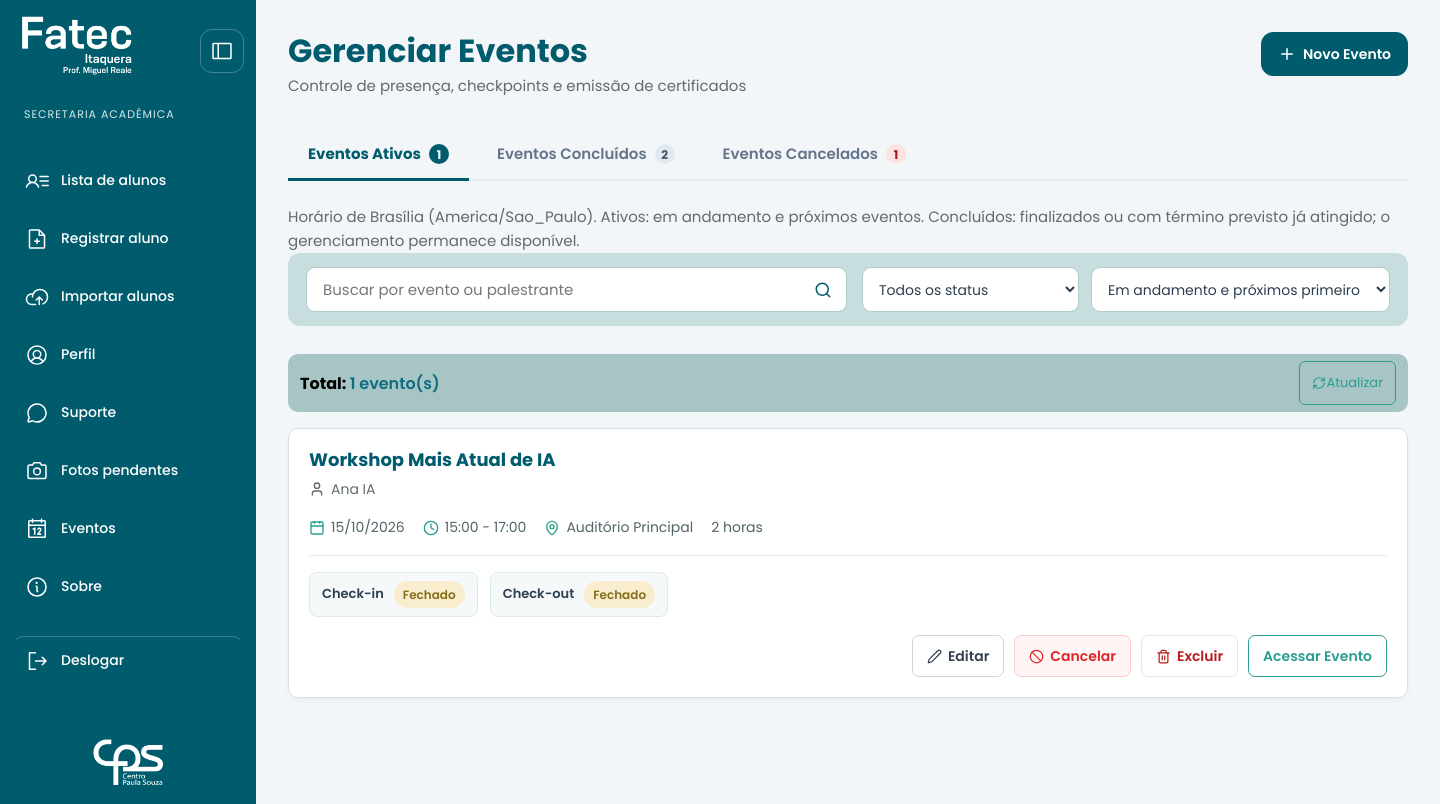
Scenario: SecretariaEventosScreen › separates past and explicitly completed events, keeping cancellations exclusive
This screenshot has width=1440, height=804.
Expected: the heading "Workshop Mais Atual de IA" is shown, [309,449,556,471]
Expected: the tab "Eventos Ativos 1" is shown, [288,130,469,181]
Filtro de checkpoint dos ativos não deve esconder o histórico.
Step 1. Select "Checkpoints Abertos" in the dropdown named "Filtrar por status" → (970, 290), box [862,267,1079,312]
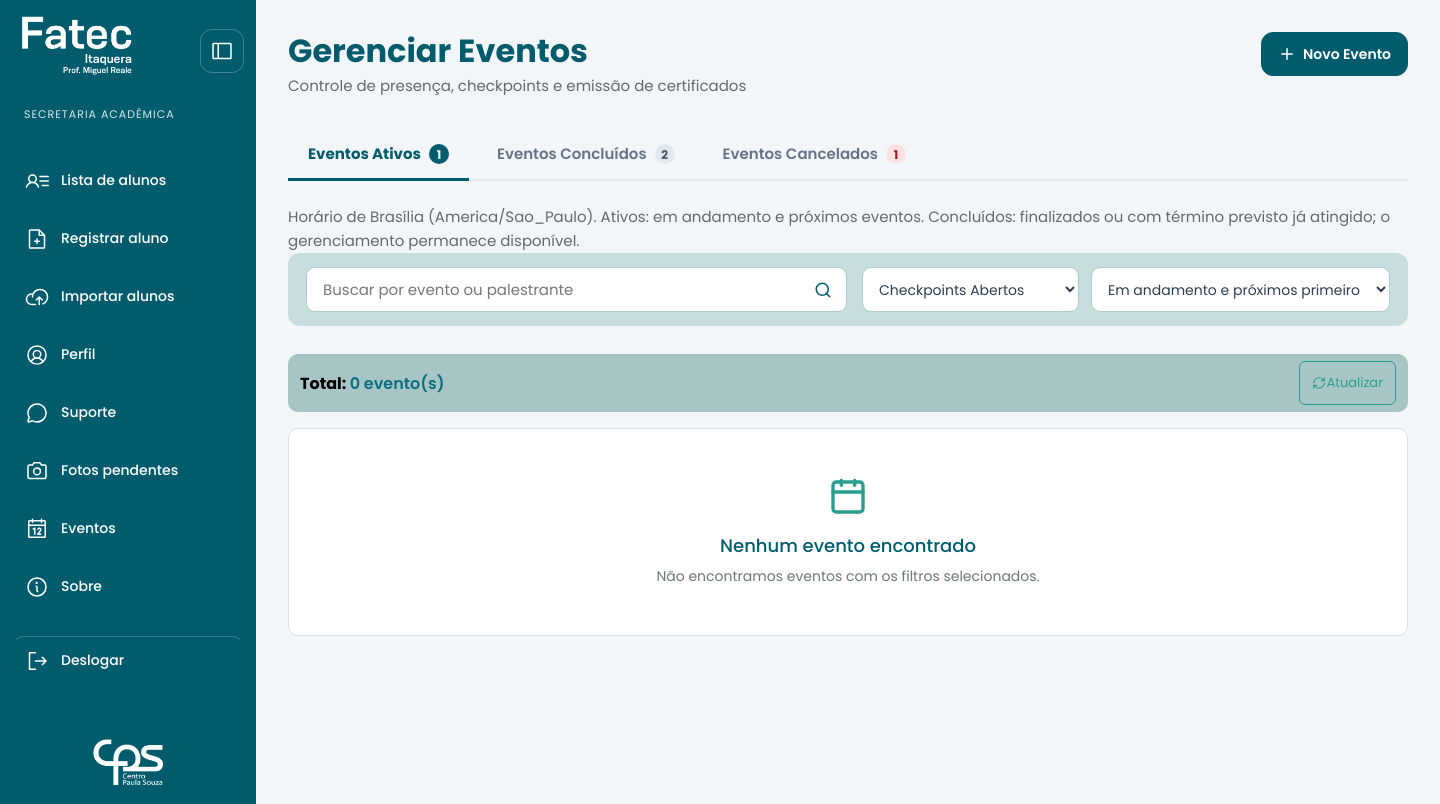
Step 2. Click the tab "Eventos Concluídos 2" → (586, 156), box [477,130,695,181]
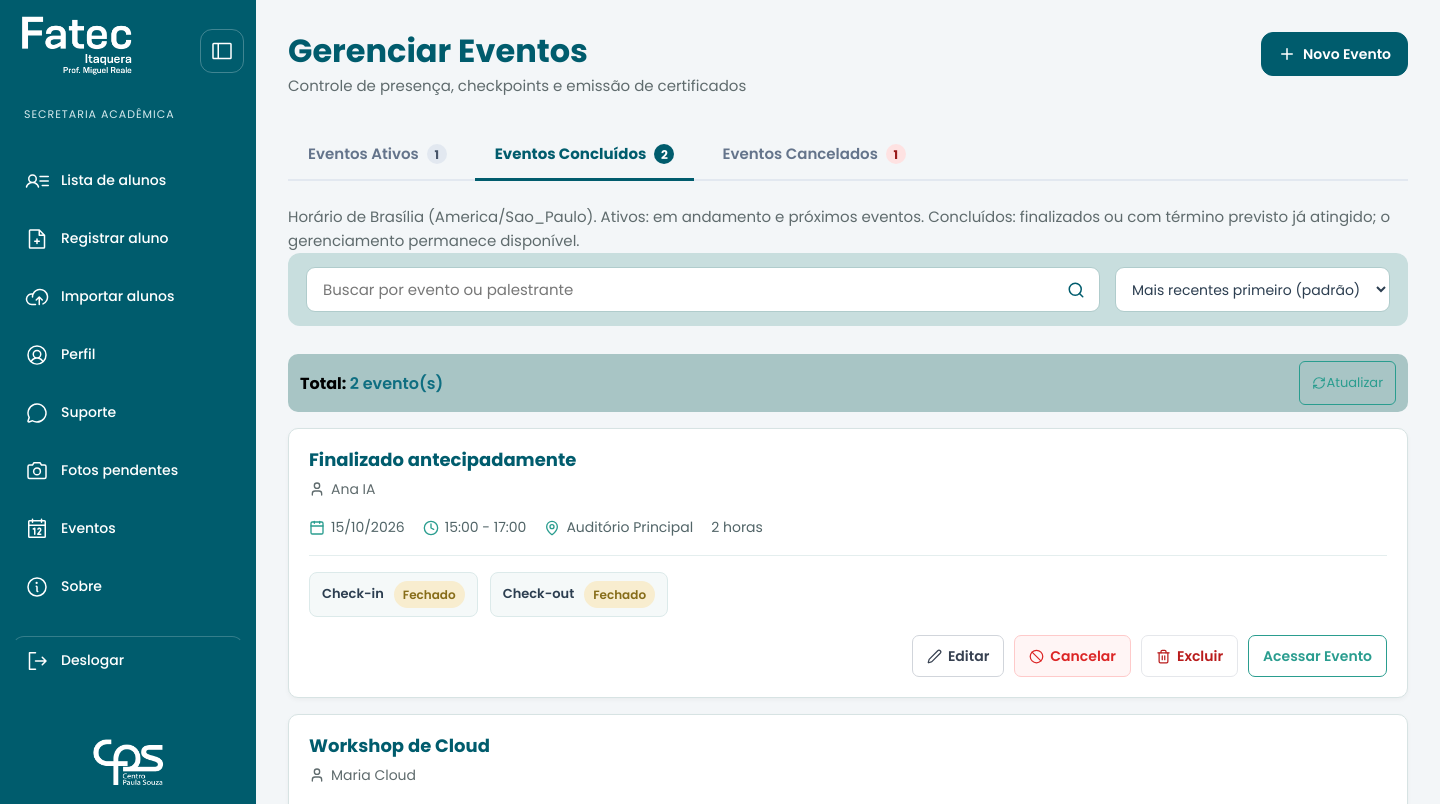
Result: the heading "Workshop de Cloud" is shown at [309,735,490,757]
Result: the heading "Finalizado antecipadamente" is shown at [309,449,576,471]
Result: the number of buttons "Acessar Evento" is 2
Step 3. Type "Maria" into the field named "Buscar eventos" → (689, 290), box [321,268,1057,312]
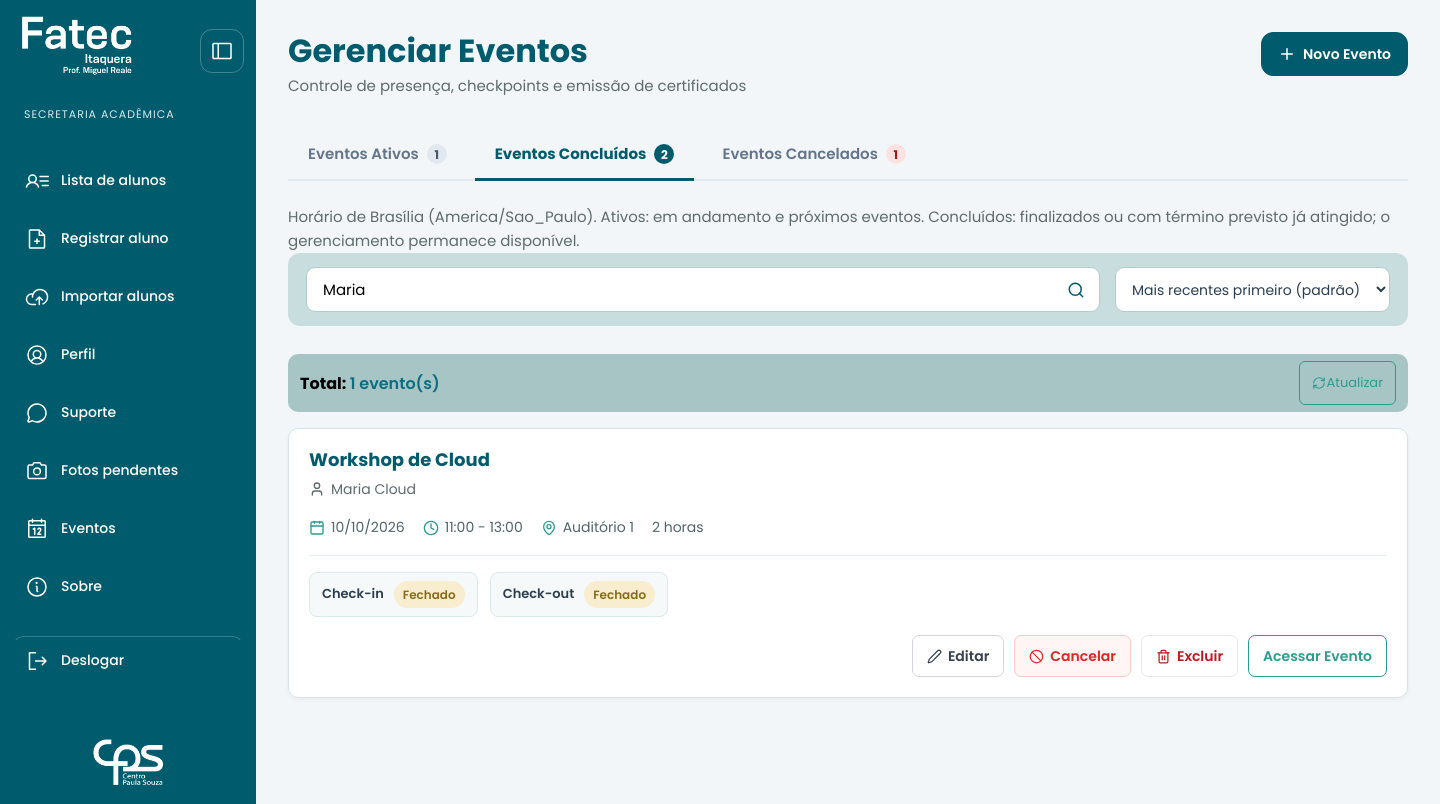
Result: the heading "Workshop de Cloud" is shown at [309,449,490,471]
Result: the heading "Finalizado antecipadamente" is gone
